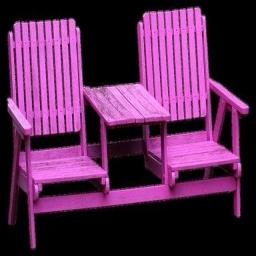Chair: (137, 11, 242, 218), (9, 20, 105, 244)
